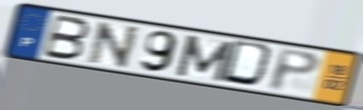9: (138, 30, 179, 75)
B: (40, 13, 93, 62)
D: (218, 38, 279, 90)
M: (172, 33, 237, 84)
N: (86, 20, 143, 71)
P: (268, 47, 324, 94)
